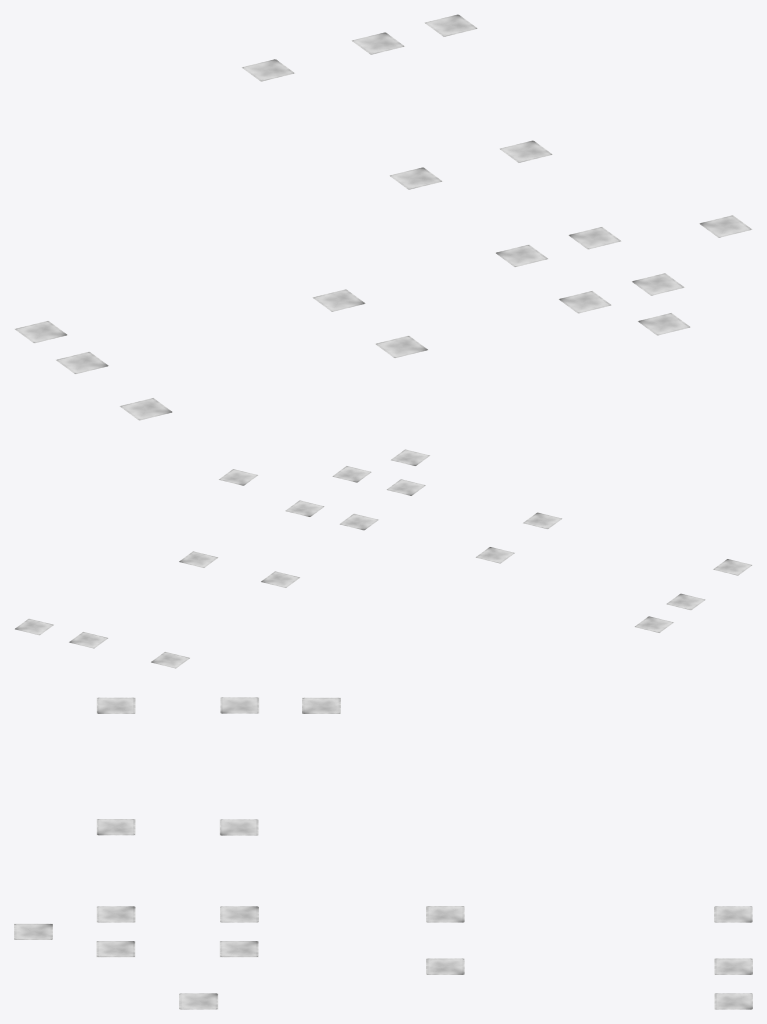
File: SM_Backrooms_02_Lamps_00.fbx
3 views of the same model, one above another, from view 1: azimuth 30°, elevation 25°; view 2: azimuth 150°, elevation 25°; view 3: azimuth 270°, elevation 25° (orthographic). The views are drawn at different scales.
Visible parts, largest first — view 1: SM_Backrooms_02_Lamps_00; view 2: SM_Backrooms_02_Lamps_00; view 3: SM_Backrooms_02_Lamps_00.
Part boxes in pixels (x1=…): SM_Backrooms_02_Lamps_00: x1=14, y1=14, x2=752, y2=420; SM_Backrooms_02_Lamps_00: x1=14, y1=449, x2=752, y2=668; SM_Backrooms_02_Lamps_00: x1=14, y1=697, x2=752, y2=1009.
Size of the model in its own units: 4774 by 0 by 4773.
